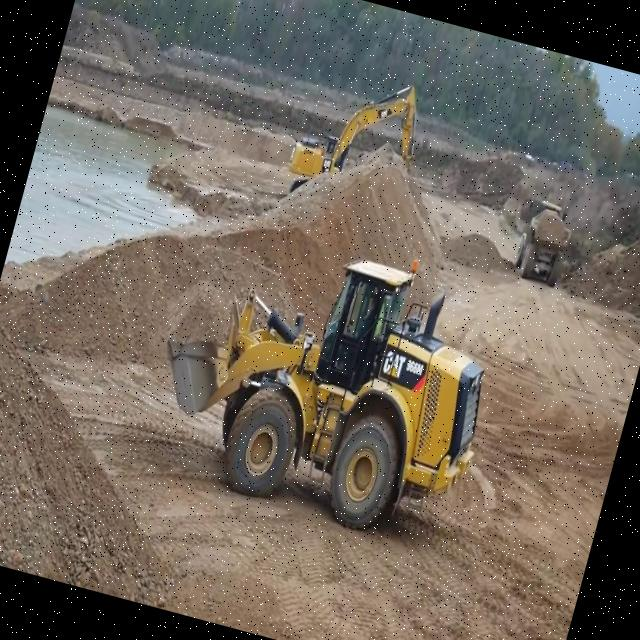Dump Truck: (508, 192, 579, 290)
Excavator: (278, 56, 434, 228)
Loader: (129, 196, 520, 554)
